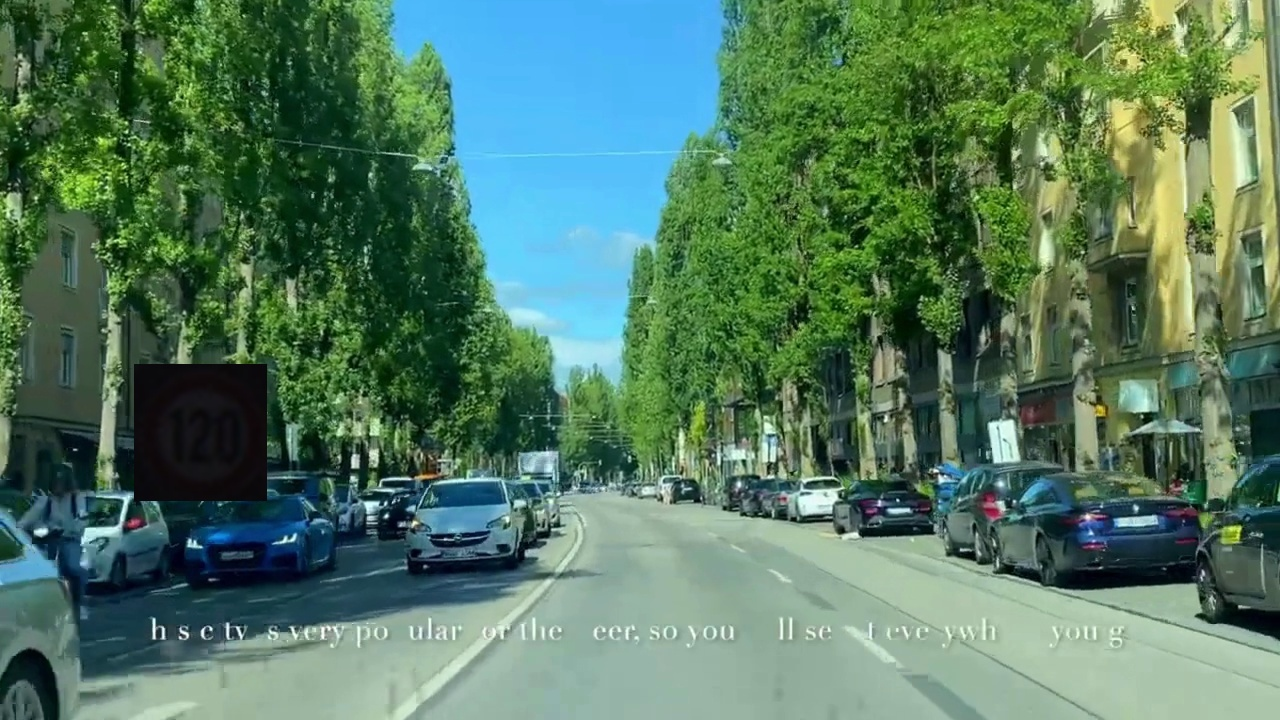Speed 120: (134, 364, 267, 501)
